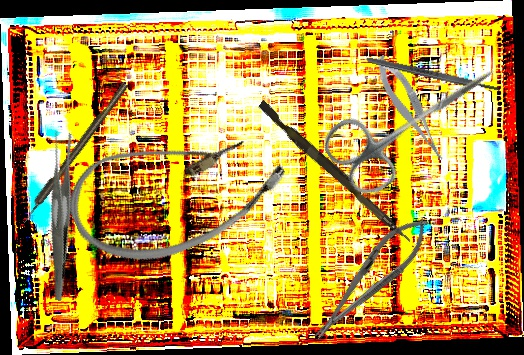Cannula: (56, 95, 298, 286)
Dressing Forceps: (0, 128, 117, 302)
Hook Surgical: (19, 81, 130, 225)
Iris Scissors: (316, 35, 514, 204)
Micro Scissor: (370, 48, 448, 170)
Needle Holder: (300, 205, 441, 352)
Pusher: (254, 100, 417, 244)
Scalpel Handle: (365, 55, 501, 94)
